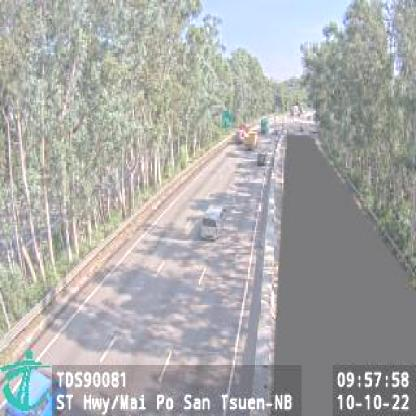Car: (202, 208, 224, 238), (189, 198, 207, 218), (258, 152, 267, 166)
Truck: (237, 126, 256, 150)
